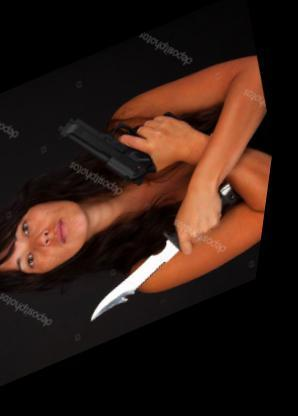knife: (76, 205, 250, 333)
